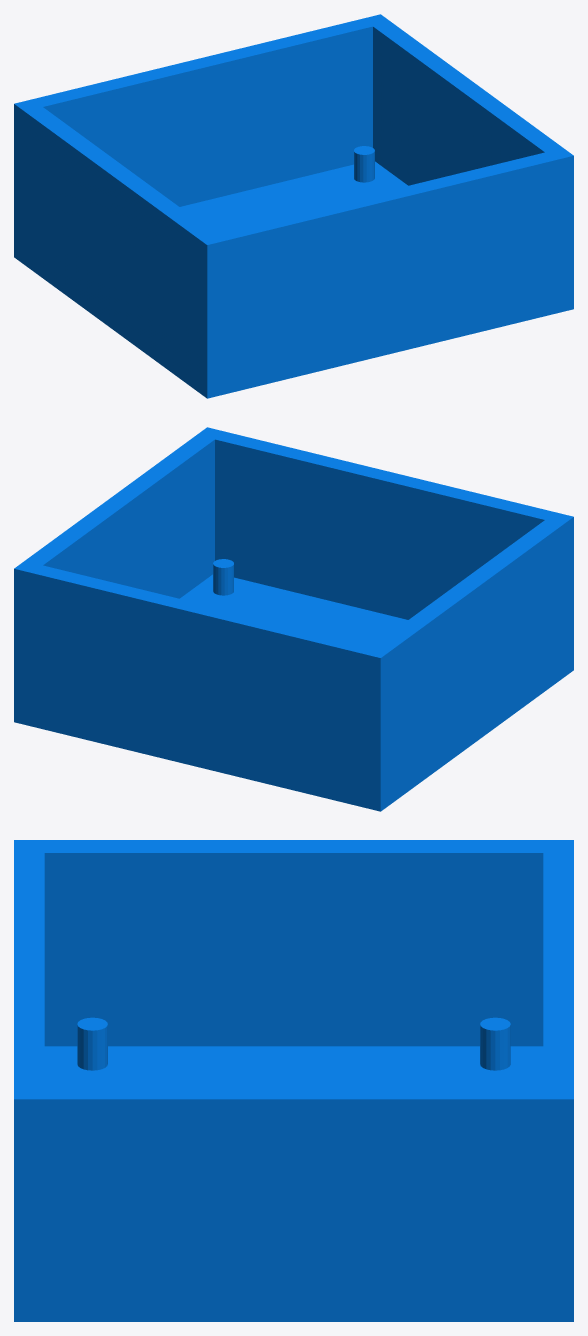
Rendered from stepperdriverholder_v1.glb.
3 views of the same model, one above another, from view 1: azimuth 30°, elevation 25°; view 2: azimuth 150°, elevation 25°; view 3: azimuth 270°, elevation 25° (orthographic). The views are drawn at different scales.
Parts seen in each view (by area): view 1: stepperdriverholder_v1; view 2: stepperdriverholder_v1; view 3: stepperdriverholder_v1.
Boxes of the visible parts, x1,y1,x2,y2 form: stepperdriverholder_v1: (14, 14, 573, 398); stepperdriverholder_v1: (14, 427, 573, 811); stepperdriverholder_v1: (14, 840, 573, 1321).
Bounding box in the file's own units: 0.04 × 0.016 × 0.0365.
